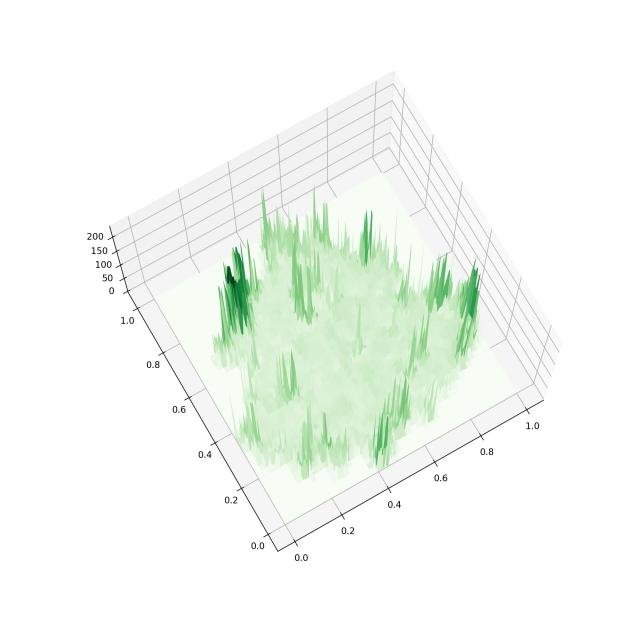fir: (76, 39, 597, 584)
